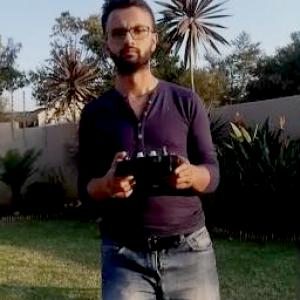follow: (76, 0, 225, 299)
